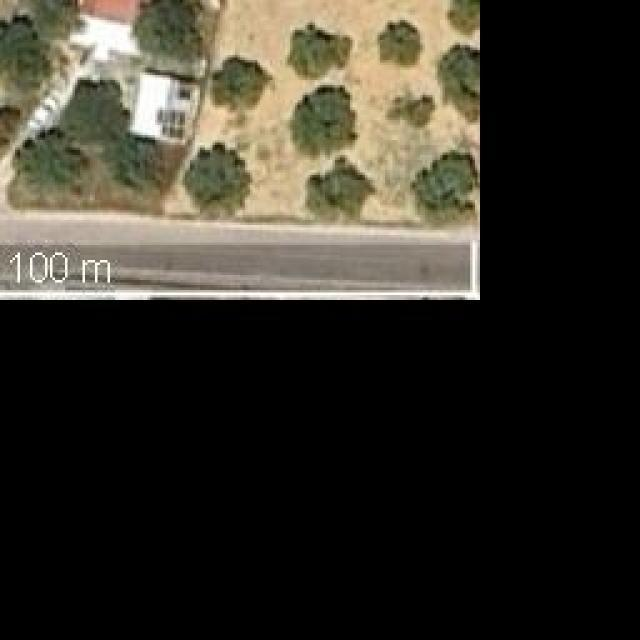Tree: (10, 130, 85, 200), (58, 78, 128, 153), (410, 150, 478, 225), (288, 85, 358, 155), (135, 0, 202, 62), (185, 143, 250, 206), (310, 157, 375, 215), (0, 18, 48, 91), (290, 23, 350, 78), (438, 43, 478, 123), (217, 60, 265, 113), (388, 83, 438, 128), (378, 23, 421, 66), (448, 0, 478, 35)
